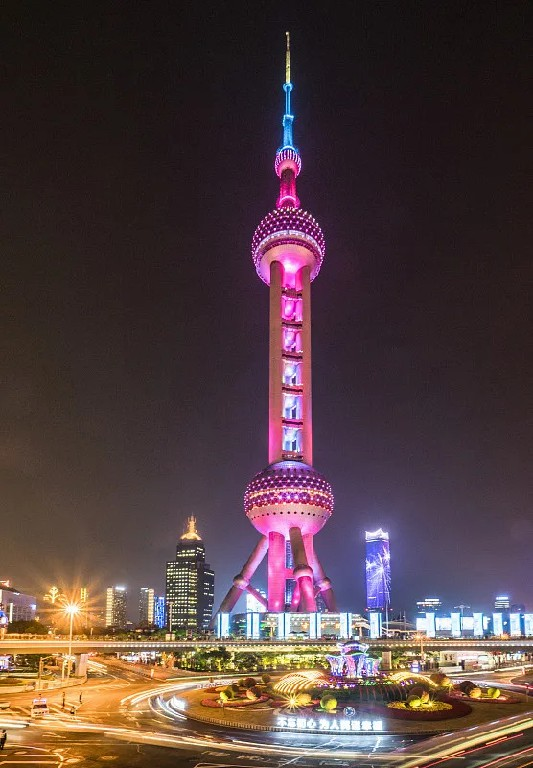Oriental: (217, 30, 336, 610)
